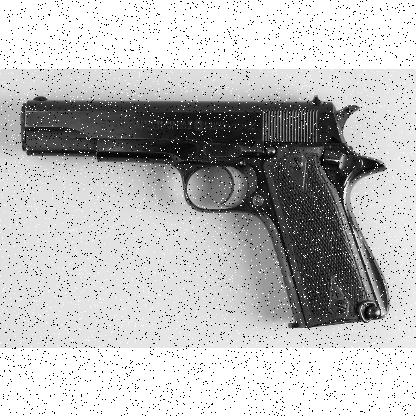gun: (20, 92, 390, 328)
